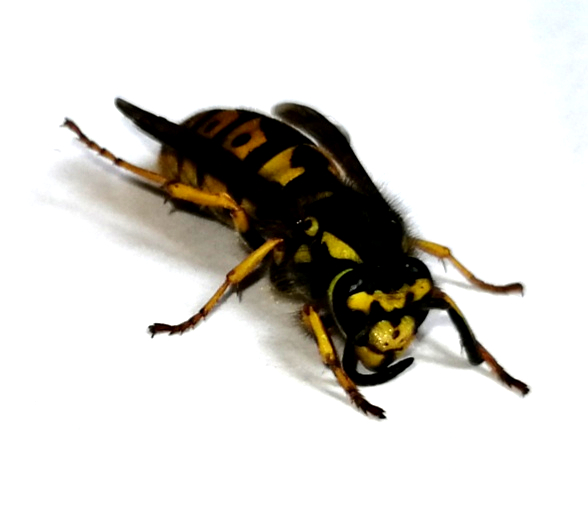chax: (57, 88, 539, 427)
